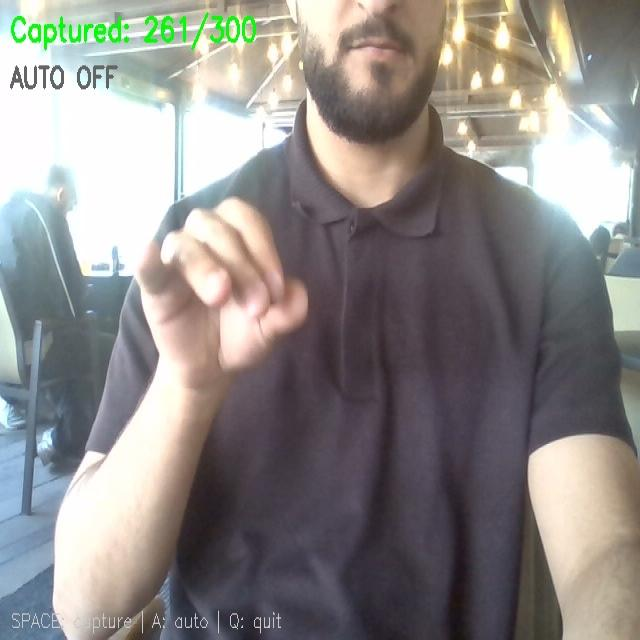Hand: (137, 199, 307, 390)
